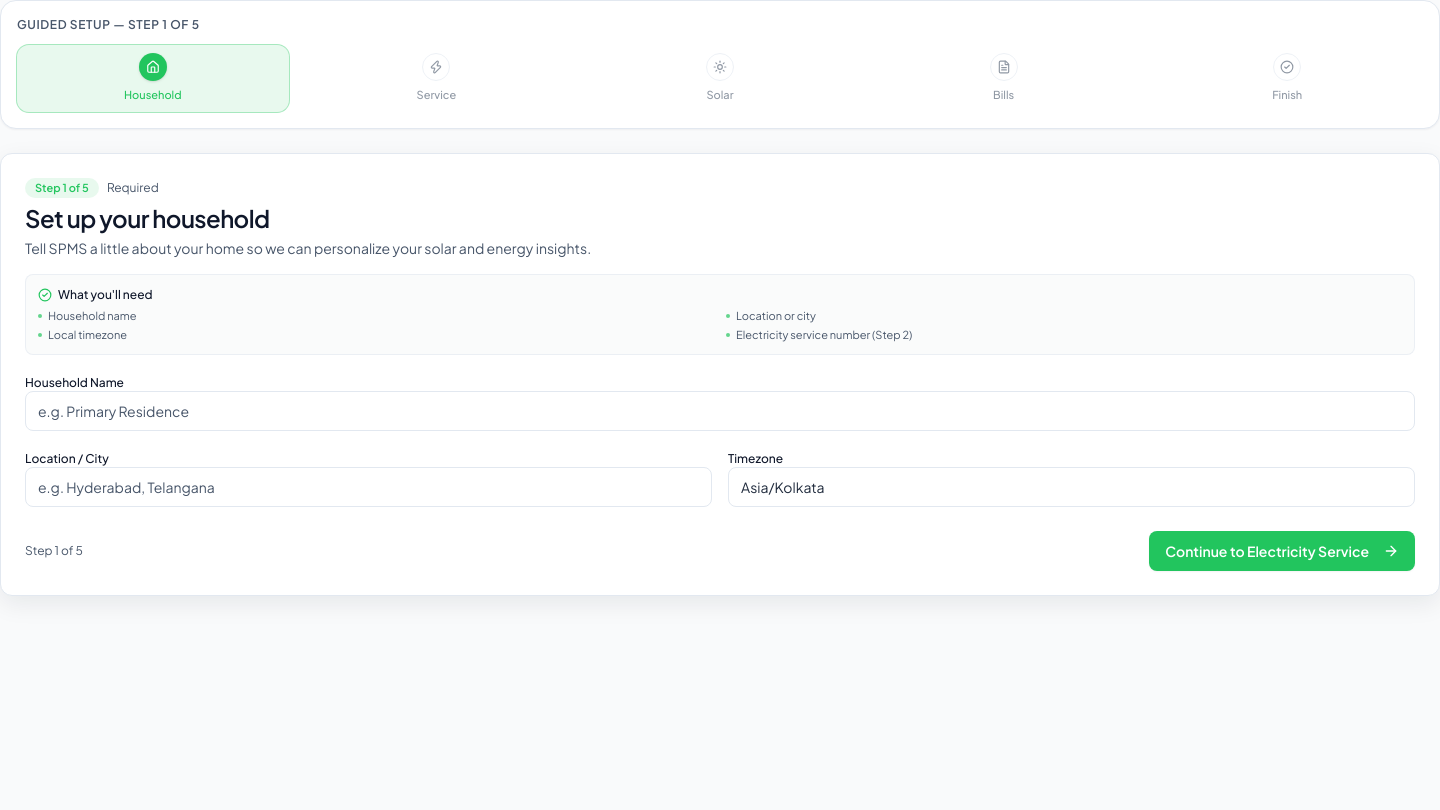
Test case: F11 Guided Onboarding Flow › validates Step 1 required fields before allowing progression
# Clear default timezone if needed or leave blank fields
Click the button "Continue to Electricity Service" at {"x": 1282, "y": 551}, box [1149, 531, 1415, 571]
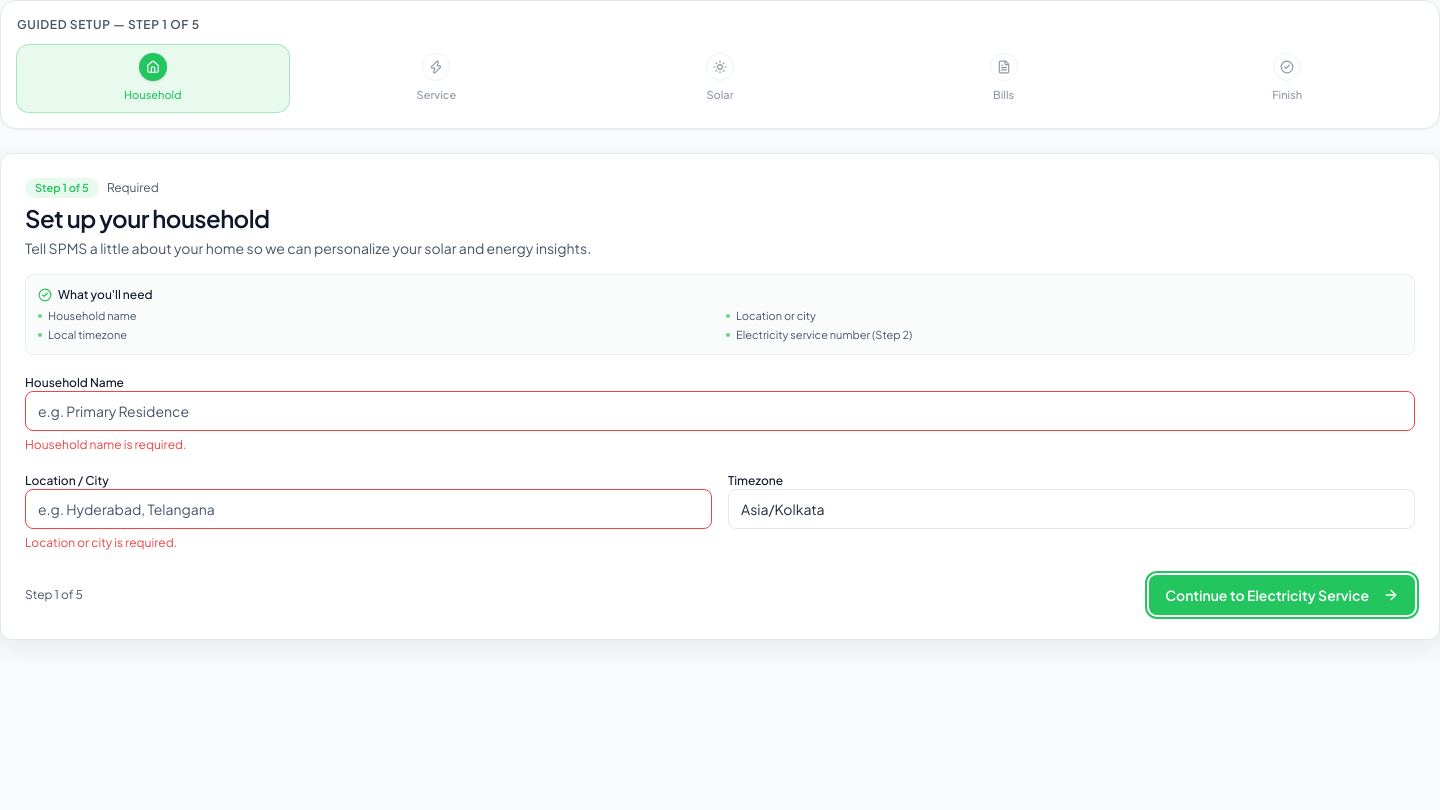
Expected: the text "Household name is required." is shown, [25, 437, 186, 452]
Expected: the text "Location or city is required." is shown, [25, 535, 177, 550]
